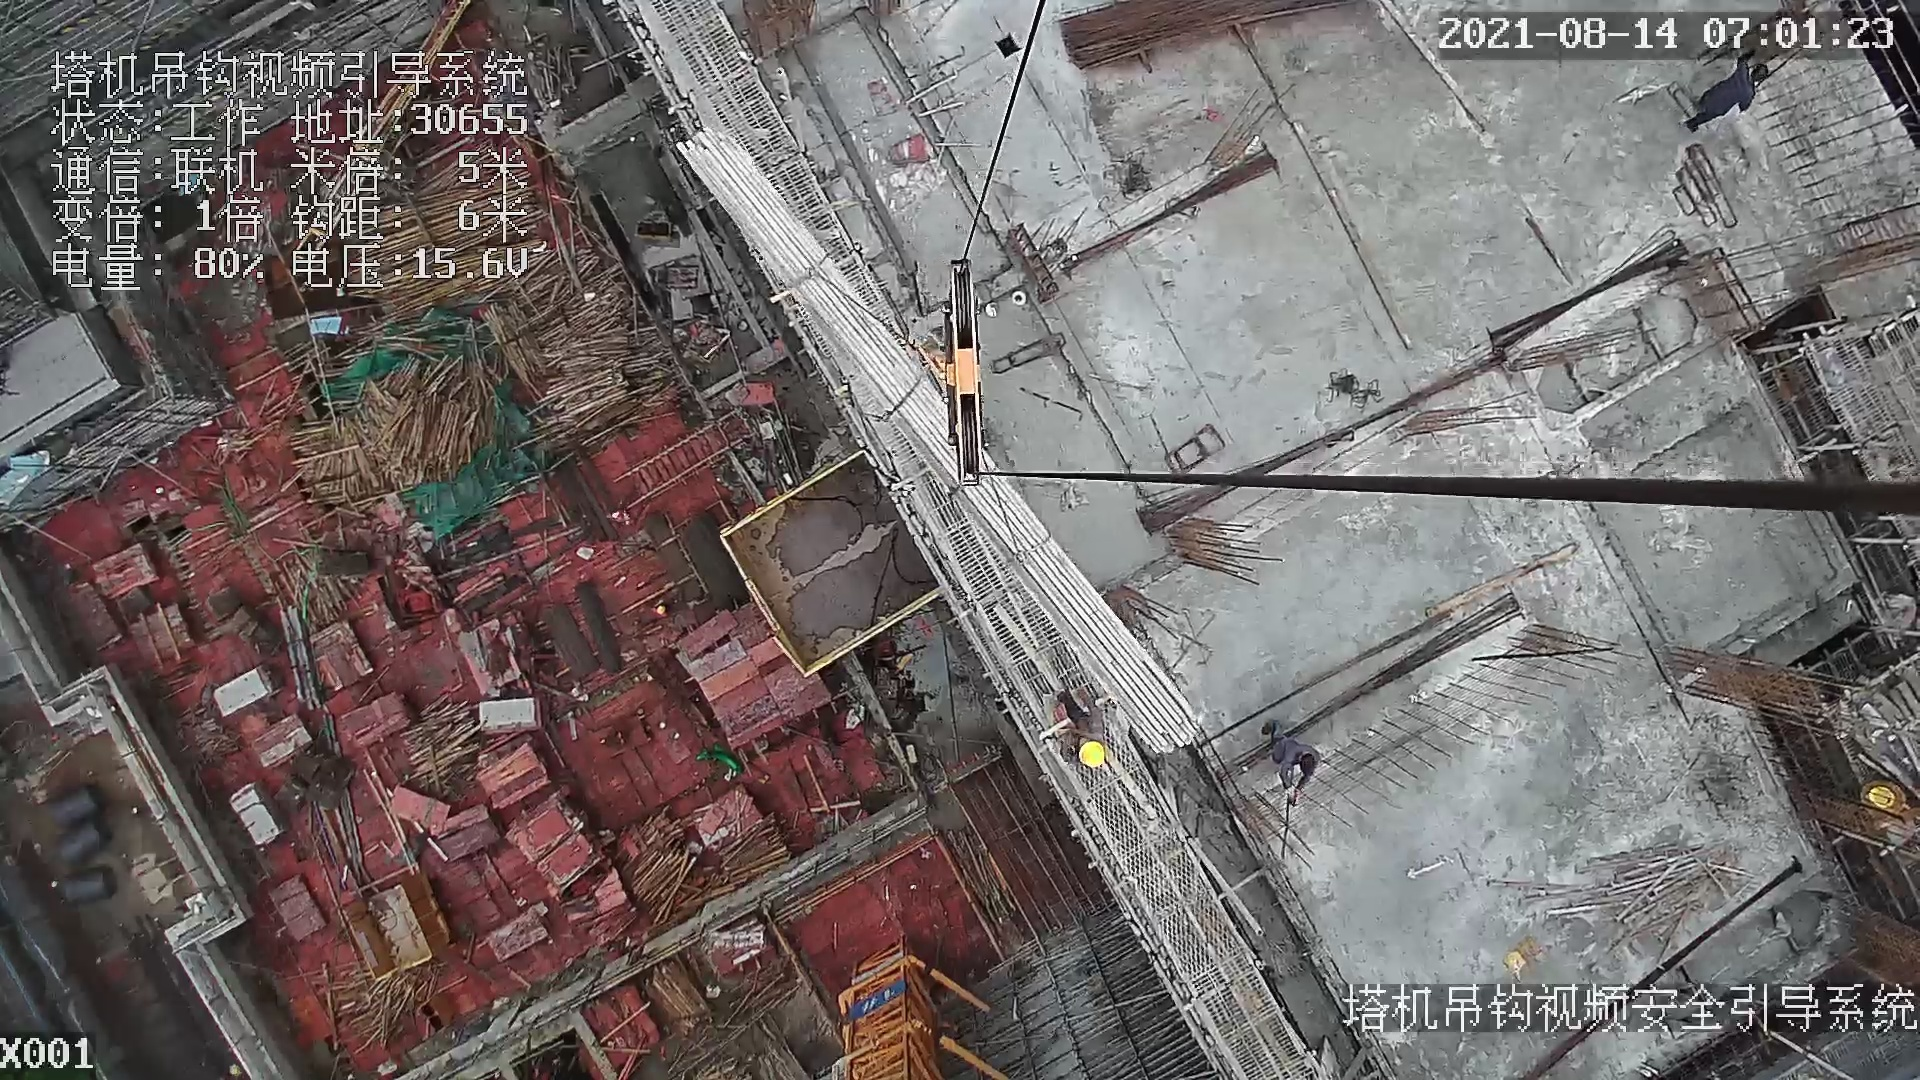helmet: (1076, 736, 1106, 770)
hook: (928, 258, 990, 485)
person: (1691, 44, 1776, 142), (1046, 683, 1110, 771), (1264, 719, 1323, 815)
